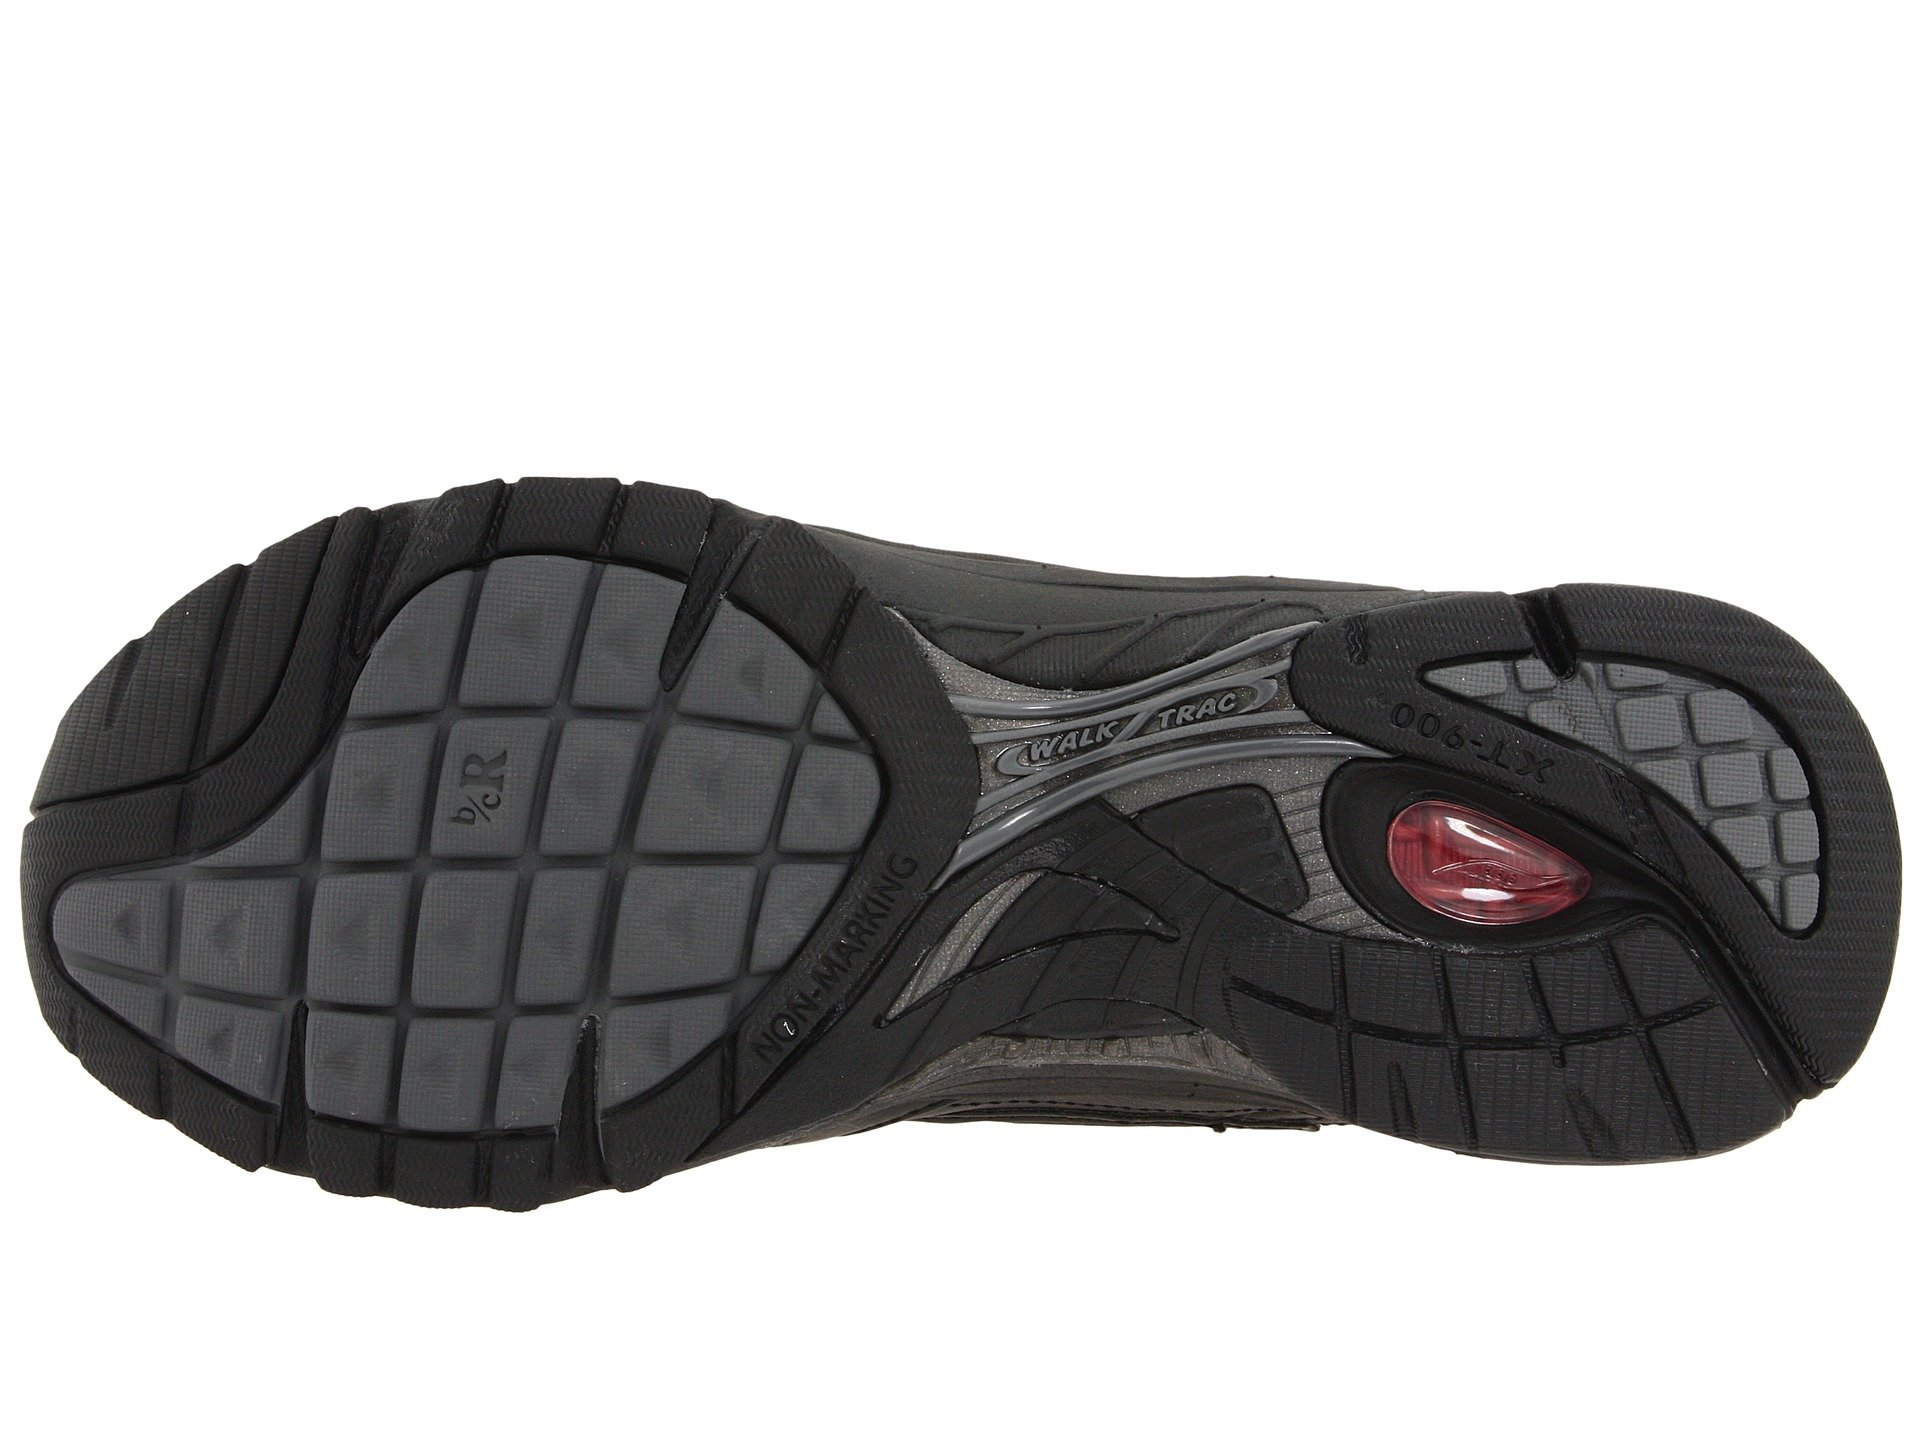circle: (1373, 234, 1516, 327)
quad: (532, 225, 828, 466), (283, 402, 520, 637), (1420, 487, 1637, 691), (1596, 198, 1742, 337)
text: (1373, 234, 1516, 327), (420, 289, 500, 368), (838, 389, 910, 458), (739, 523, 803, 590), (998, 269, 1051, 318)
